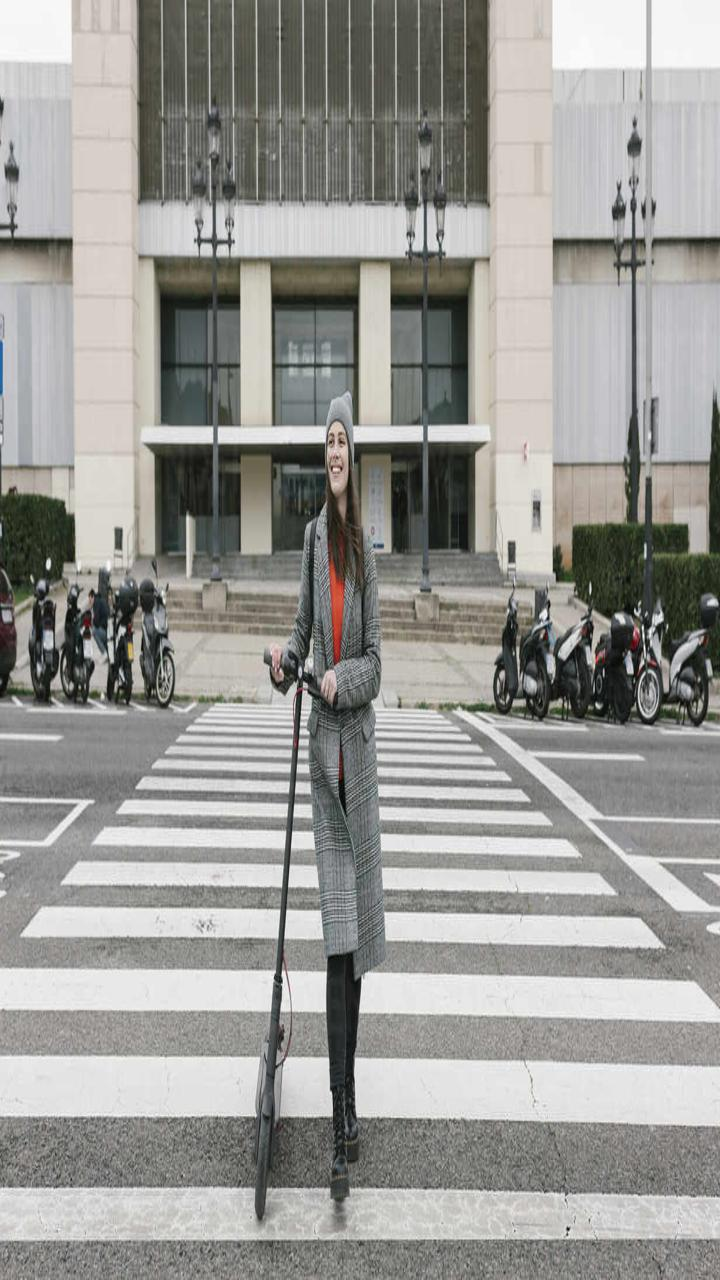motorcycle: (490, 582, 564, 727), (550, 587, 607, 723), (602, 589, 659, 725), (663, 587, 720, 723), (18, 551, 68, 704), (45, 561, 95, 714), (93, 563, 143, 716), (131, 559, 181, 712)
scooter: (227, 656, 331, 1248)
vehicle: (274, 355, 431, 1209)
